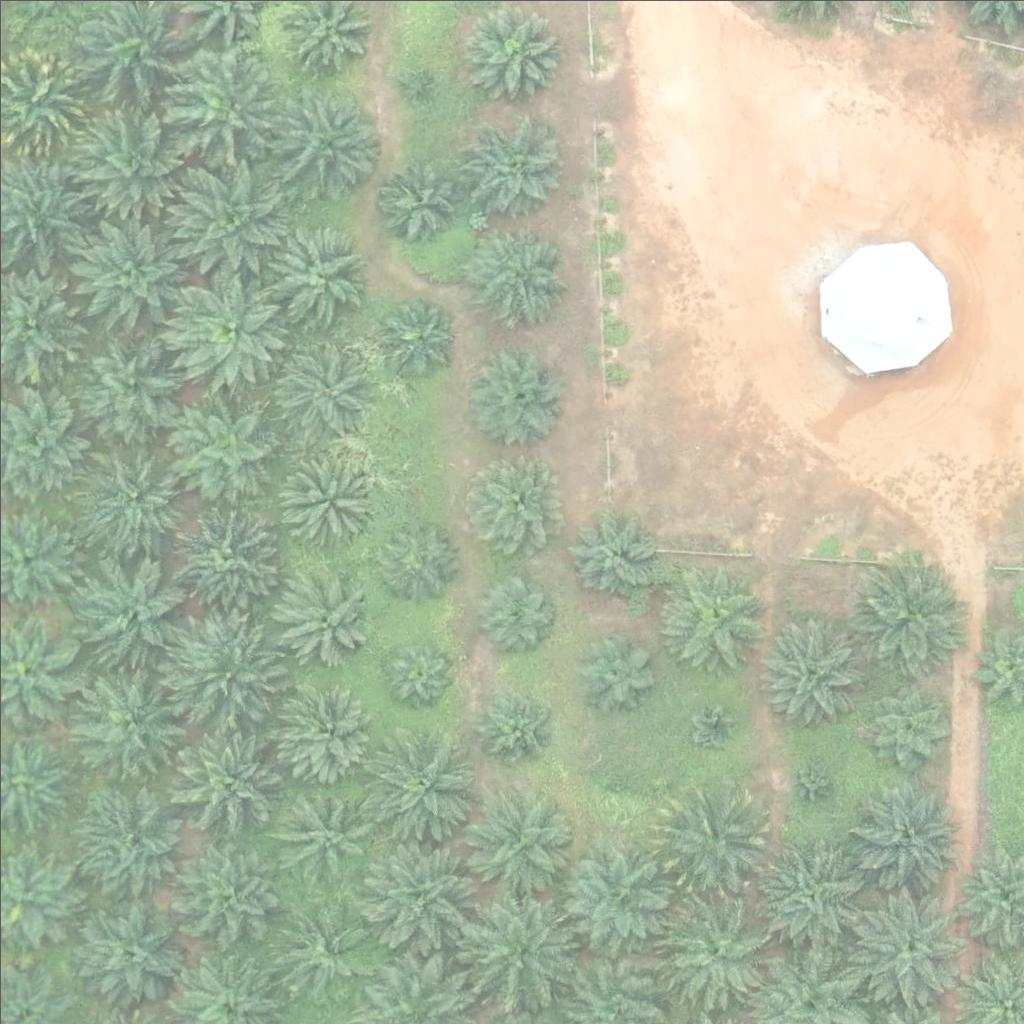Kelapa_Sawit: (365, 736, 478, 850), (465, 895, 578, 1009), (270, 85, 383, 199), (70, 897, 183, 1010), (74, 787, 187, 900), (168, 833, 281, 946), (460, 786, 573, 899), (850, 889, 963, 1002), (847, 774, 960, 887), (847, 561, 960, 674), (166, 615, 279, 728), (165, 498, 278, 611), (69, 667, 182, 780), (72, 553, 185, 666), (78, 442, 191, 555), (70, 327, 183, 440), (169, 721, 281, 835), (360, 838, 472, 952), (656, 560, 768, 674), (171, 157, 283, 271), (168, 51, 280, 165), (657, 785, 769, 898), (554, 839, 666, 952), (659, 895, 771, 1008), (755, 842, 867, 955), (755, 611, 867, 724), (171, 389, 283, 502), (172, 268, 284, 381), (69, 216, 181, 329), (80, 101, 192, 214), (470, 226, 570, 327), (278, 677, 378, 778), (272, 565, 372, 666), (277, 447, 377, 548), (462, 115, 562, 216), (464, 7, 564, 108), (274, 902, 374, 1002), (270, 783, 370, 883), (460, 453, 560, 553), (465, 346, 565, 446), (267, 334, 367, 434), (265, 221, 365, 321), (563, 513, 651, 601), (861, 678, 948, 766), (570, 628, 657, 716), (471, 678, 558, 766), (474, 569, 561, 657), (372, 514, 459, 602), (374, 158, 461, 246), (379, 298, 454, 374), (381, 635, 456, 710), (783, 757, 833, 808), (689, 701, 739, 752), (592, 765, 642, 815), (398, 73, 423, 98)
